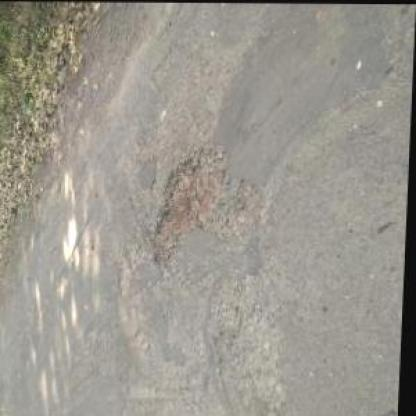pothole: (151, 147, 233, 266)
